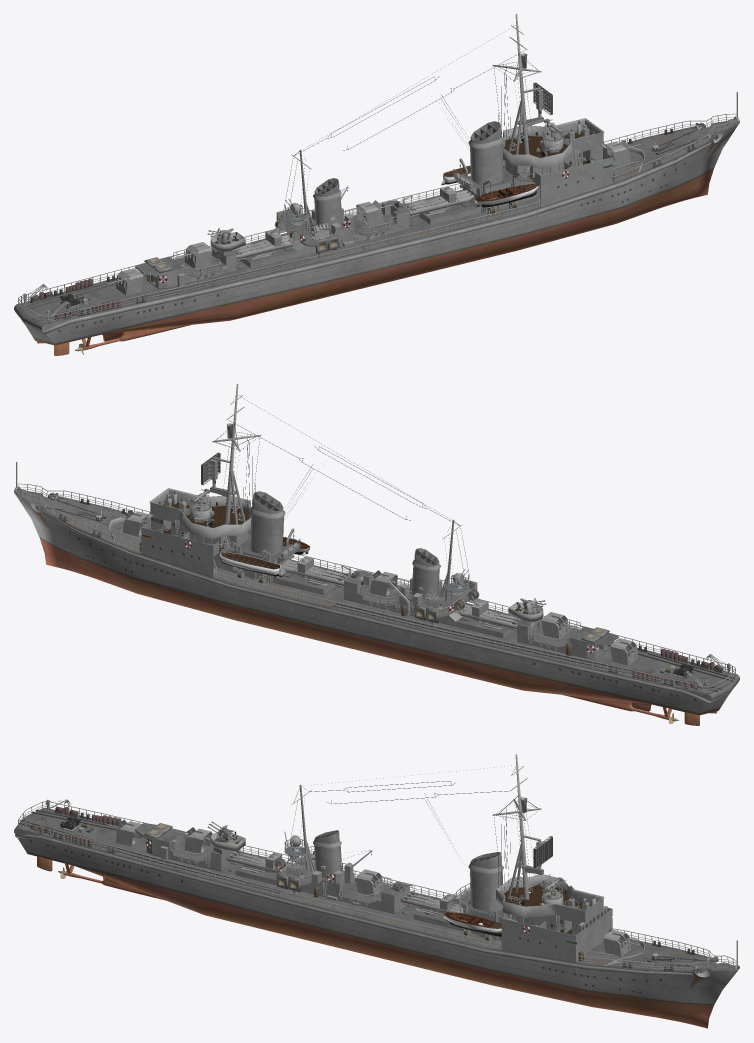
The picture shows the model from 3 angles, top to bottom: view 1: azimuth 30°, elevation 25°; view 2: azimuth 150°, elevation 25°; view 3: azimuth 330°, elevation 25°; orthographic projection.
Visible parts, largest first — view 1: T-22_Hull, T-22_Props, T-22_SideFence, T-22_TorpedoTubes.001_0, T-22_TorpedoTubes.001, T-22_Cables, T-22_Vessel_1, T-22_Main_turret.003, T-22_Main_turret.003_0; view 2: T-22_Hull, T-22_Props, T-22_SideFence, T-22_TorpedoTubes.001_0, T-22_Cables, T-22_TorpedoTubes.001, T-22_Vessel_2, T-22_Main_turret.003, T-22_Main_turret.003_0; view 3: T-22_Hull, T-22_Props, T-22_SideFence, T-22_Main_turret.003_0 (×3), T-22_TorpedoTubes.001_0, T-22_Cables, T-22_TorpedoTubes.001, T-22_Vessel_1, T-22_Main_turret.003, T-22_Radar_2.
Part boxes in pixels (x1,y1,x2,y2): T-22_Hull: (14, 14, 739, 350); T-22_Props: (18, 92, 739, 322); T-22_SideFence: (18, 113, 737, 323); T-22_TorpedoTubes.001_0: (404, 186, 474, 217); T-22_TorpedoTubes.001: (235, 230, 295, 260); T-22_Cables: (282, 25, 539, 226); T-22_Vessel_1: (474, 183, 538, 207); T-22_Main_turret.003: (116, 268, 143, 295); T-22_Main_turret.003_0: (184, 242, 212, 268); T-22_Hull: (14, 384, 739, 719); T-22_Props: (14, 462, 735, 692); T-22_SideFence: (16, 483, 735, 693); T-22_TorpedoTubes.001_0: (280, 556, 349, 587); T-22_Cables: (214, 395, 471, 596); T-22_TorpedoTubes.001: (458, 600, 518, 630); T-22_Vessel_2: (220, 552, 282, 576); T-22_Main_turret.003: (610, 638, 637, 665); T-22_Main_turret.003_0: (541, 612, 569, 638); T-22_Hull: (14, 754, 739, 1028); T-22_Props: (19, 799, 739, 973); T-22_SideFence: (18, 801, 736, 971); T-22_Main_turret.003_0 (×3): (184, 827, 630, 956); T-22_TorpedoTubes.001_0: (400, 890, 463, 916); T-22_Cables: (289, 765, 538, 901); T-22_TorpedoTubes.001: (226, 849, 289, 875); T-22_Vessel_1: (443, 912, 501, 936); T-22_Main_turret.003: (116, 820, 141, 846); T-22_Radar_2: (533, 836, 552, 870).
Size of the model in its own units: 97.14 by 29.45 by 9.72.
12 materials, 12 textured.
